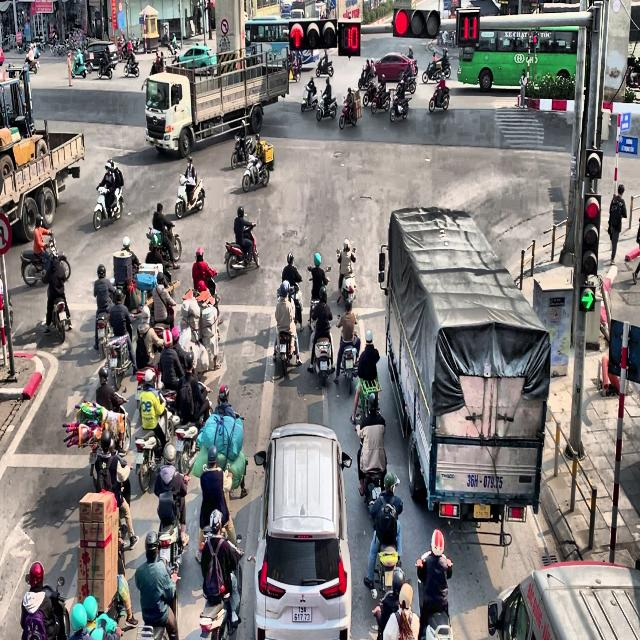BUS: (457, 12, 583, 92)
CAR: (250, 422, 353, 640), (487, 559, 640, 639), (172, 44, 218, 76), (372, 52, 417, 82)
MOTORBIKE: (199, 535, 244, 640), (134, 405, 179, 493), (171, 397, 212, 475), (136, 578, 180, 640), (20, 235, 70, 286), (156, 492, 184, 576), (224, 222, 259, 278), (309, 317, 335, 386), (336, 325, 361, 395), (105, 332, 134, 390), (307, 266, 331, 330), (273, 319, 299, 376), (93, 182, 123, 230), (146, 224, 181, 265), (175, 174, 205, 218), (242, 152, 270, 192), (51, 298, 71, 342), (231, 135, 254, 170), (95, 311, 112, 358), (316, 90, 337, 121), (339, 96, 357, 129), (429, 84, 450, 112), (390, 93, 410, 122), (371, 85, 390, 114), (422, 58, 444, 83), (71, 52, 92, 78), (300, 85, 318, 112), (363, 79, 379, 107), (98, 51, 113, 79), (397, 72, 416, 94), (124, 53, 140, 77), (316, 56, 334, 77), (24, 52, 40, 74), (288, 58, 300, 82), (167, 41, 180, 60), (407, 57, 418, 76)
TRAFFIC_LIGHT: (581, 192, 601, 276), (288, 18, 337, 50), (392, 7, 441, 38), (456, 7, 480, 45), (338, 21, 361, 56), (585, 148, 603, 179)
TRUCK: (378, 205, 551, 544), (143, 47, 290, 159)
